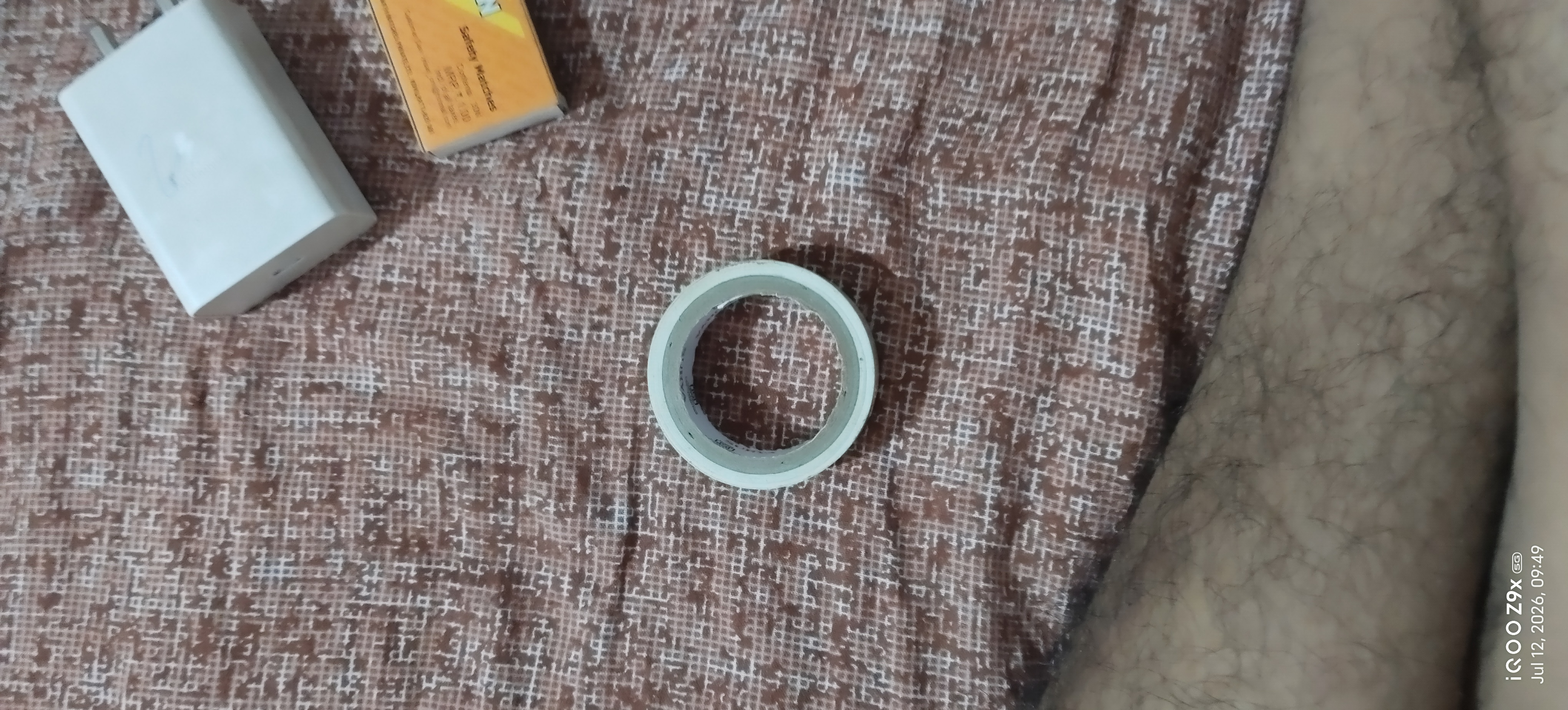charger: (37, 0, 391, 348)
matchbox: (348, 0, 609, 180)
tape_roll: (621, 242, 895, 502)
